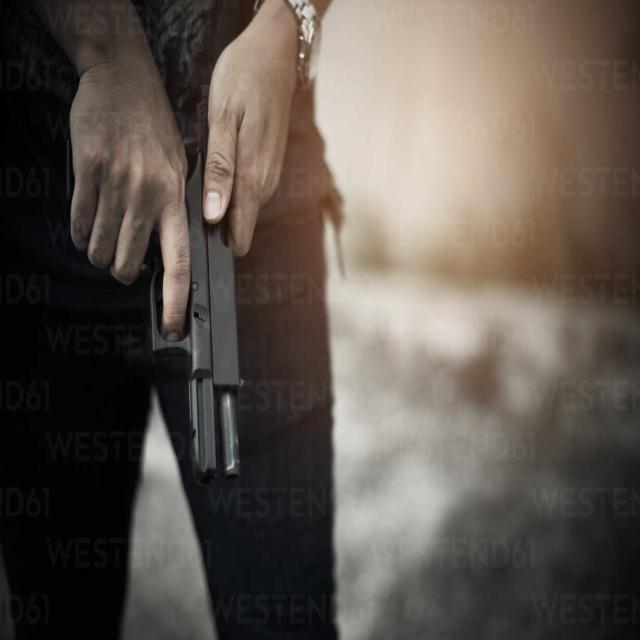HandGun: (139, 54, 250, 496)
